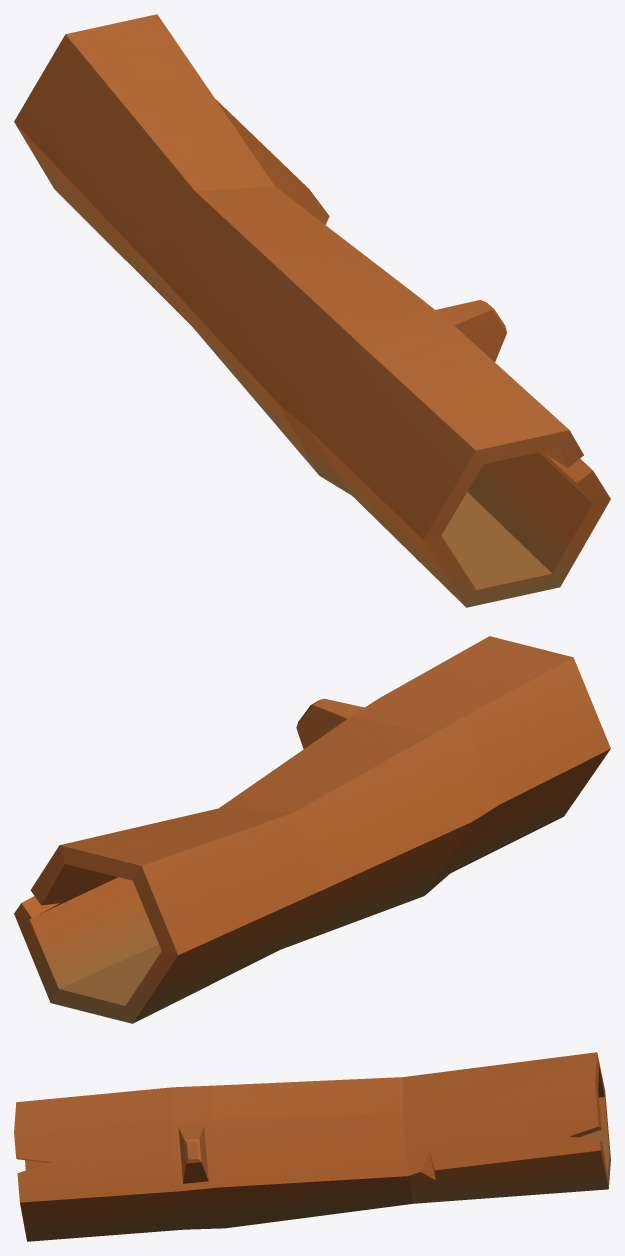
Rendered from tree2.glb.
The picture shows the model from 3 angles, top to bottom: view 1: azimuth 30°, elevation 25°; view 2: azimuth 150°, elevation 25°; view 3: azimuth 270°, elevation 25°; orthographic projection. The views are drawn at different scales.
Visible parts, largest first — view 1: Cylinder.008; view 2: Cylinder.008; view 3: Cylinder.008.
Boxes of the visible parts, x1,y1,x2,y2 form: Cylinder.008: (14,14,610,607); Cylinder.008: (14,636,610,1023); Cylinder.008: (14,1052,610,1241).
Size of the model in its own units: 0.4648 by 0.5402 by 1.73.
1 material, 1 textured.
